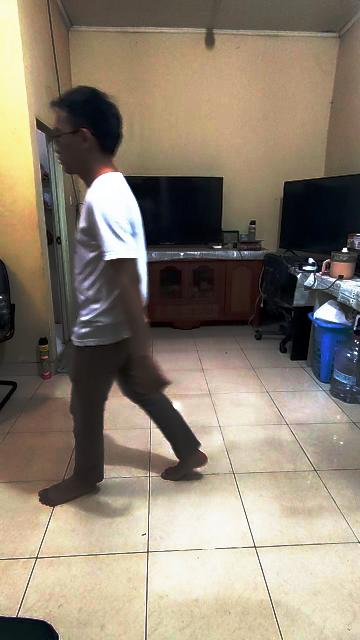berjalan: (28, 86, 214, 502)
